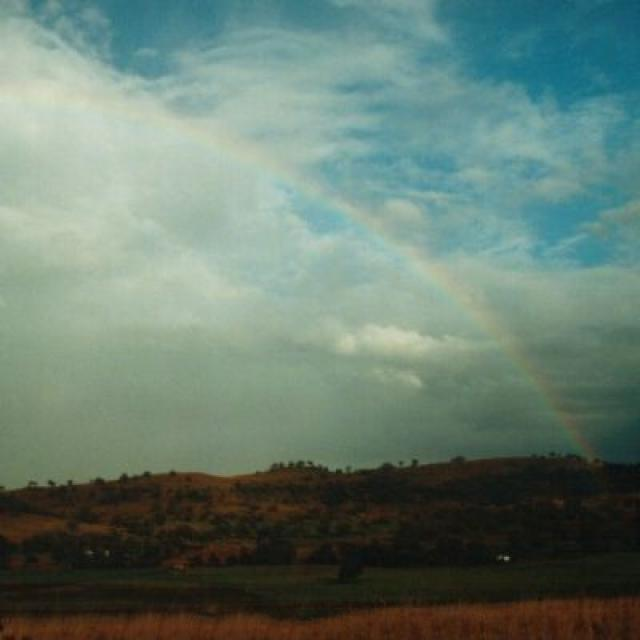Ns: (3, 63, 640, 418)
